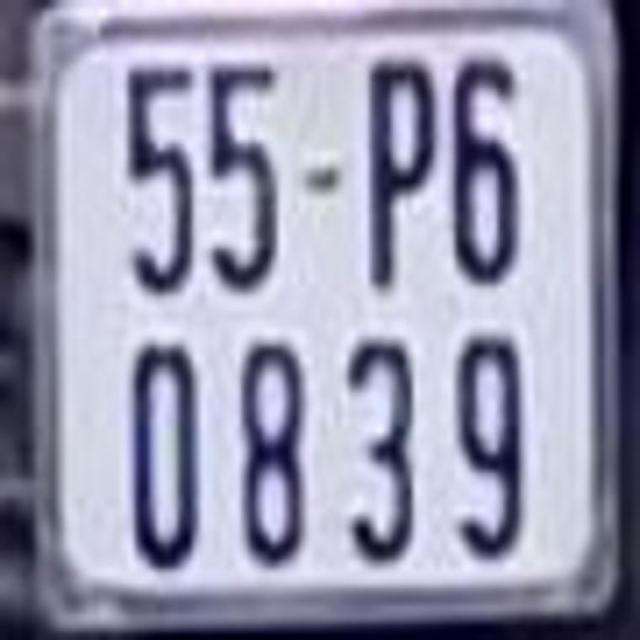0: (128, 343, 199, 556)
3: (351, 331, 420, 567)
5: (121, 56, 194, 287), (207, 61, 277, 290)
6: (453, 54, 522, 278)
8: (242, 337, 305, 562)
9: (452, 320, 526, 561)
P: (366, 64, 440, 294)
